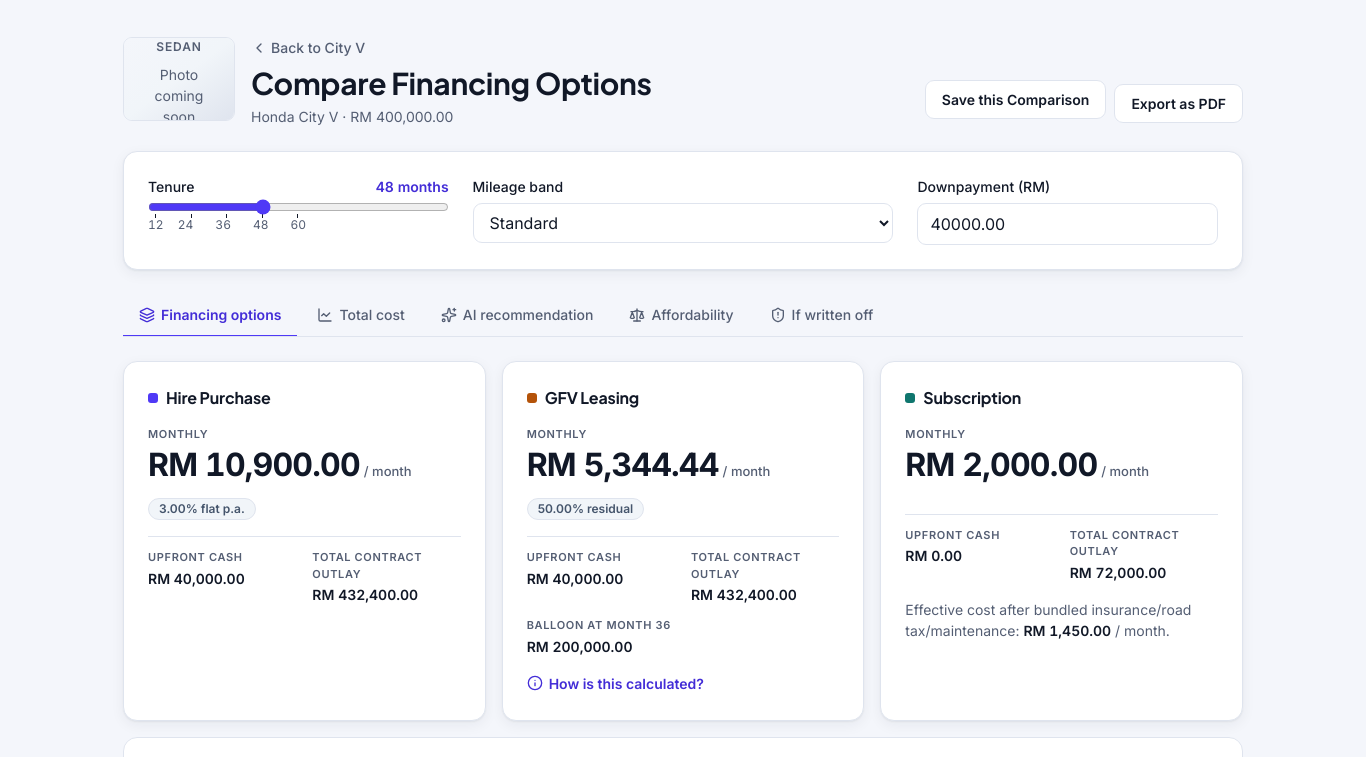
ComparisonPage › AI Recommendation tab › does not fetch a recommendation until all three ratings, income, and DSR are filled in
Click the tab "AI recommendation" at coordinates (517, 316), box x1=425 y1=294 x2=610 y2=337
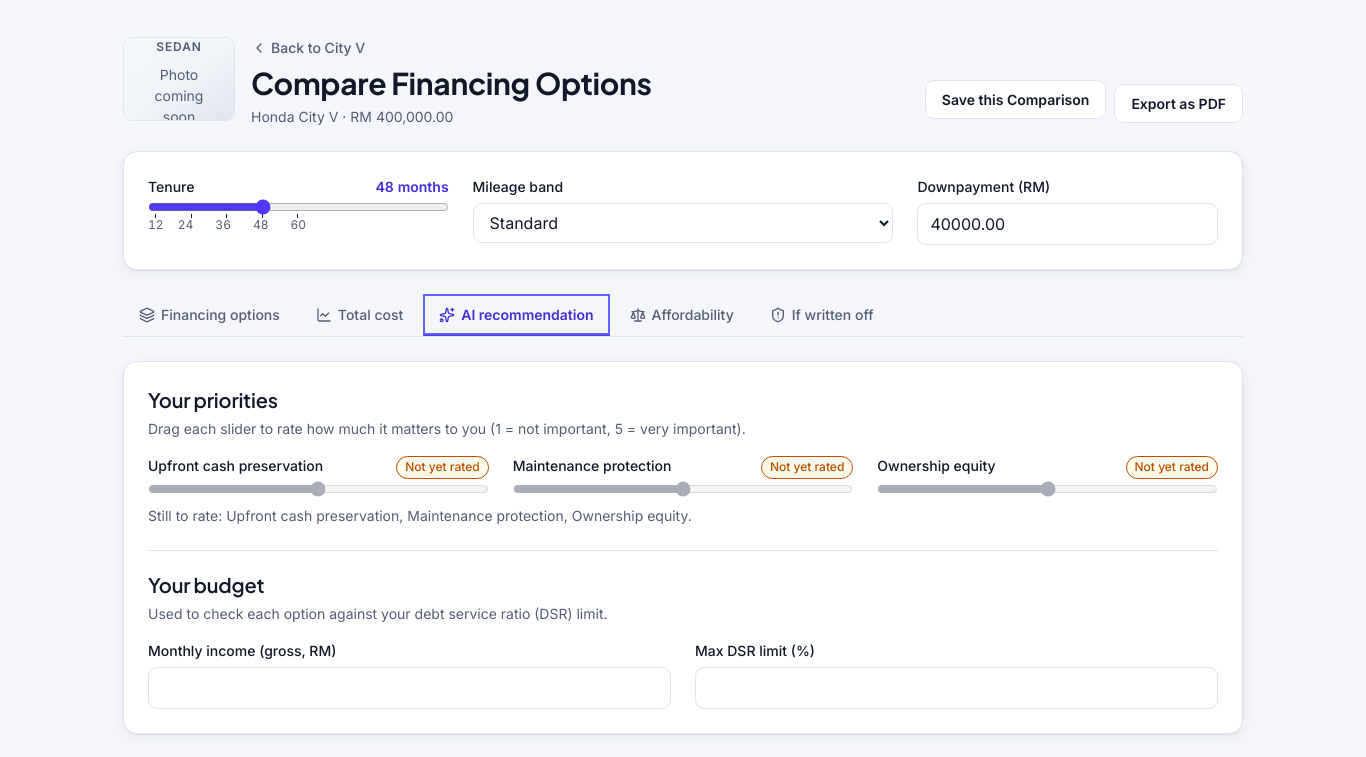
Set the slider labelled "Upfront cash preservation" to "5" at coordinates (481, 489), box x1=148 y1=485 x2=489 y2=493
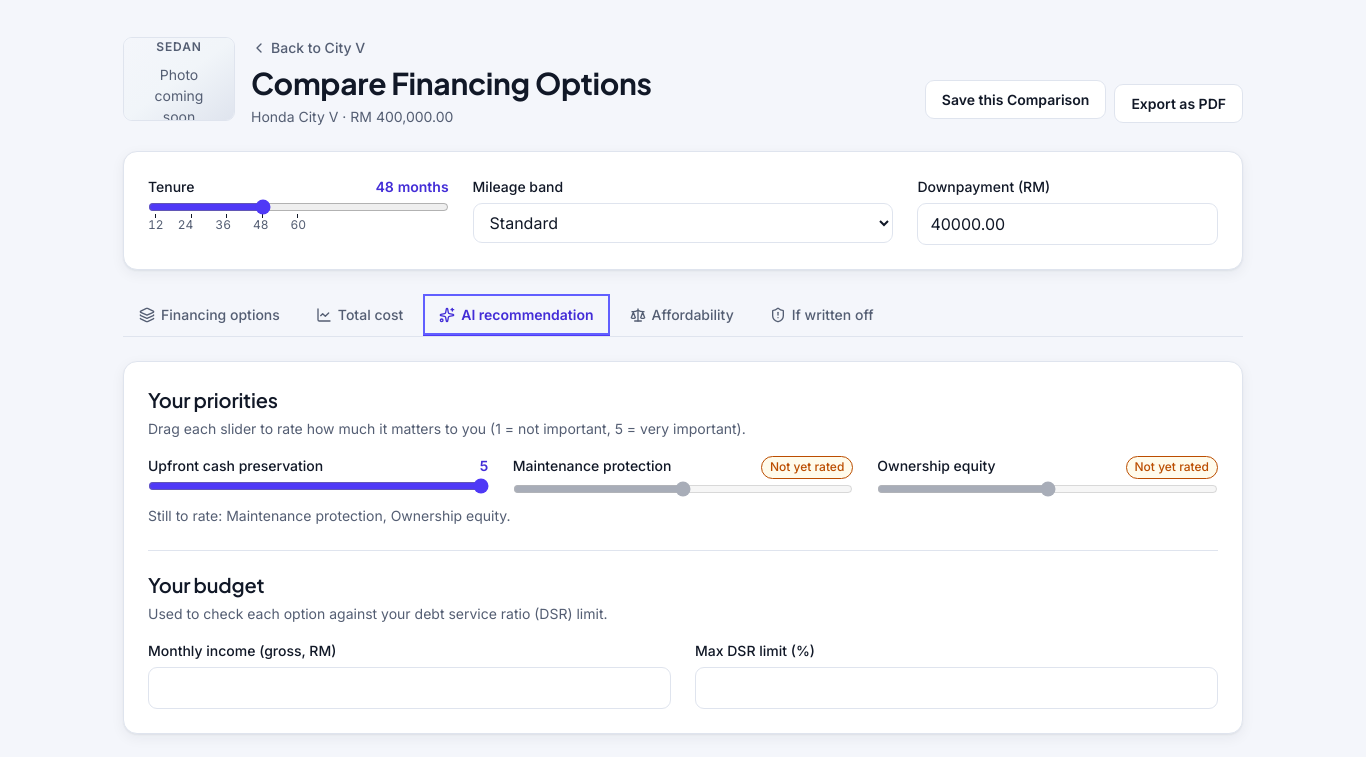
Set the slider labelled "Maintenance protection" to "4" at coordinates (764, 489), box x1=513 y1=485 x2=853 y2=493
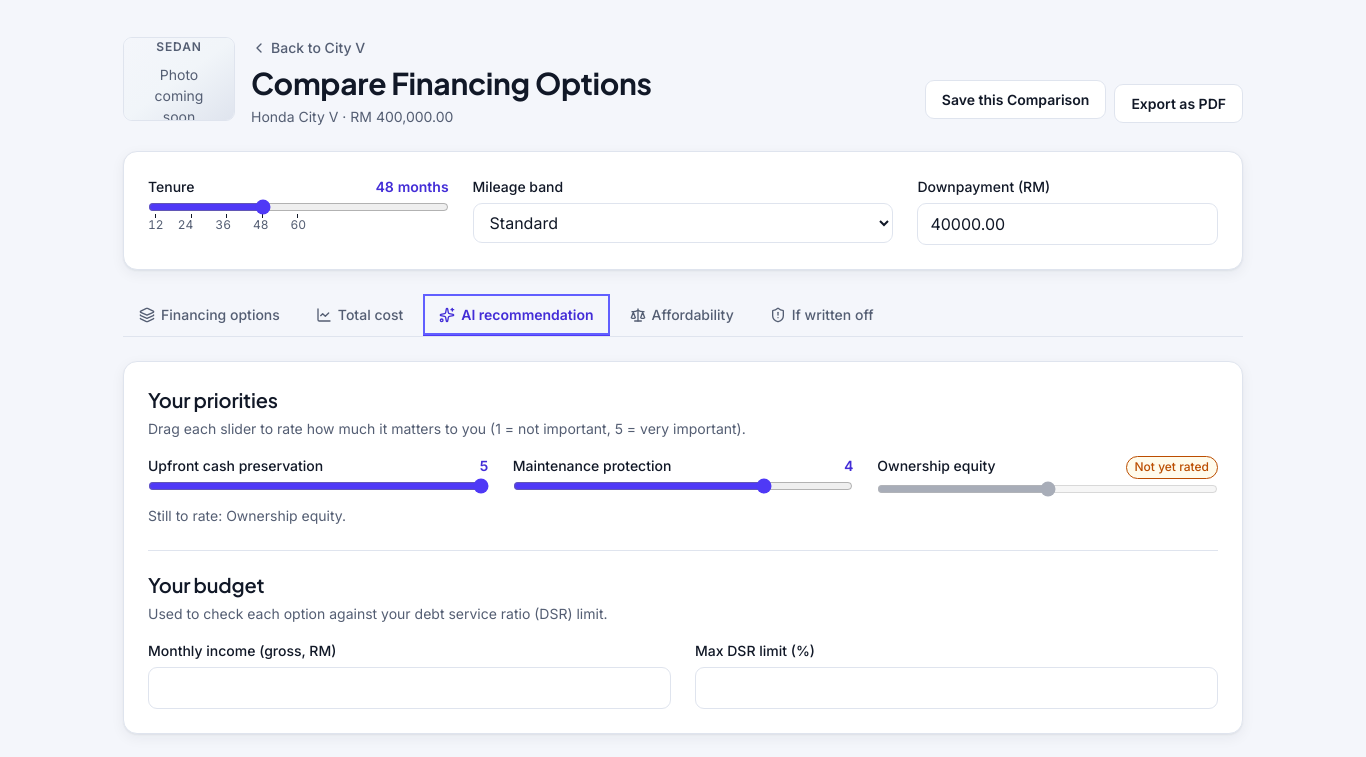
Set the slider labelled "Ownership equity" to "2" at coordinates (966, 489), box x1=877 y1=485 x2=1218 y2=493
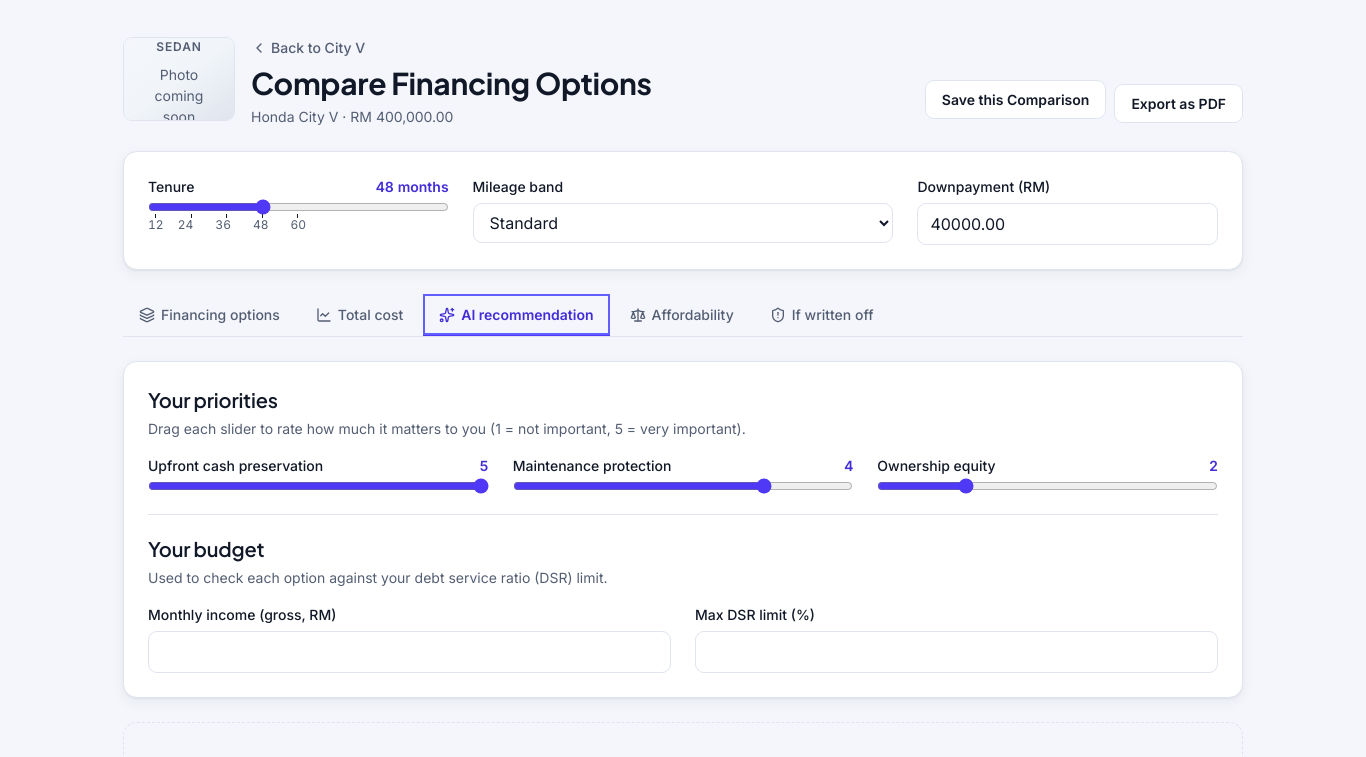
Type "8000" into the number field labelled "Monthly income (gross, RM)" at coordinates (410, 652), box x1=148 y1=631 x2=671 y2=673
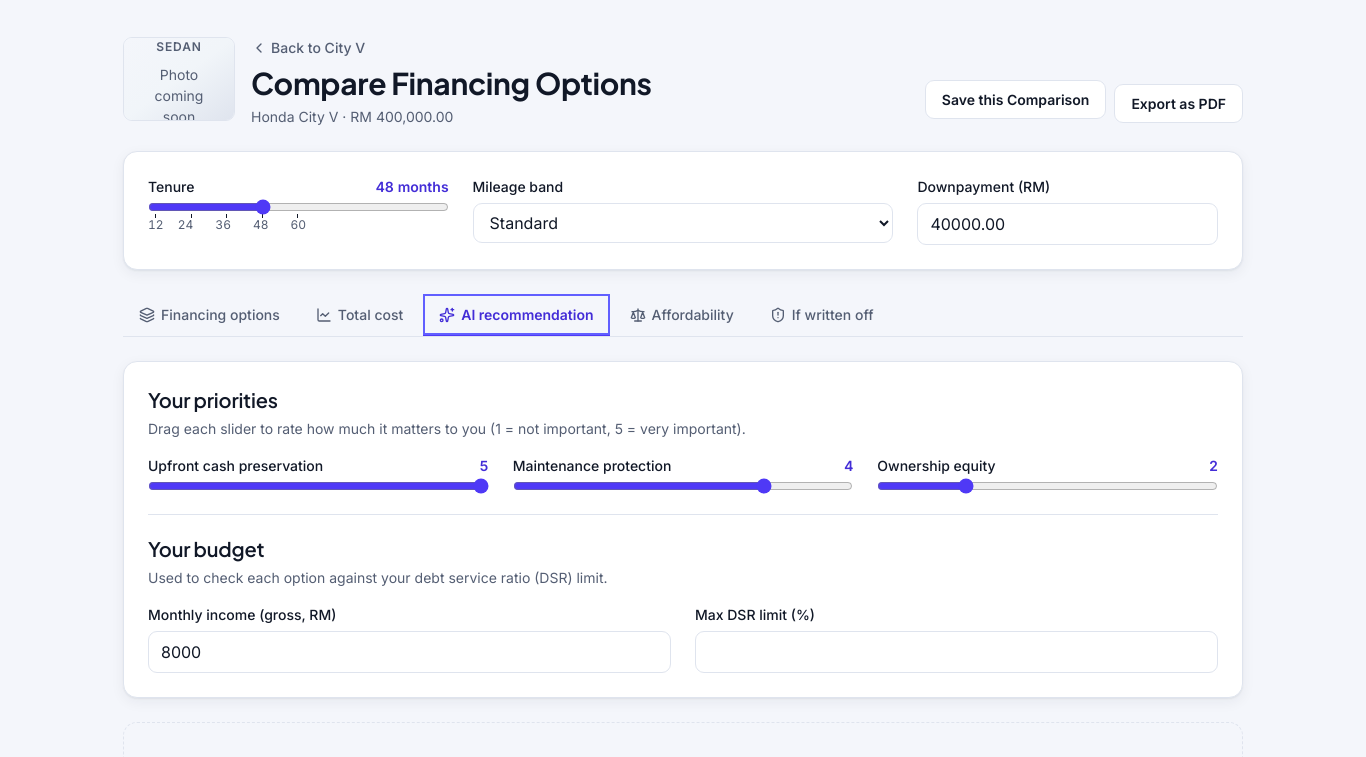
Type "60" into the number field labelled "Max DSR limit (%)" at coordinates (956, 652), box x1=695 y1=631 x2=1218 y2=673
(page scrolled)
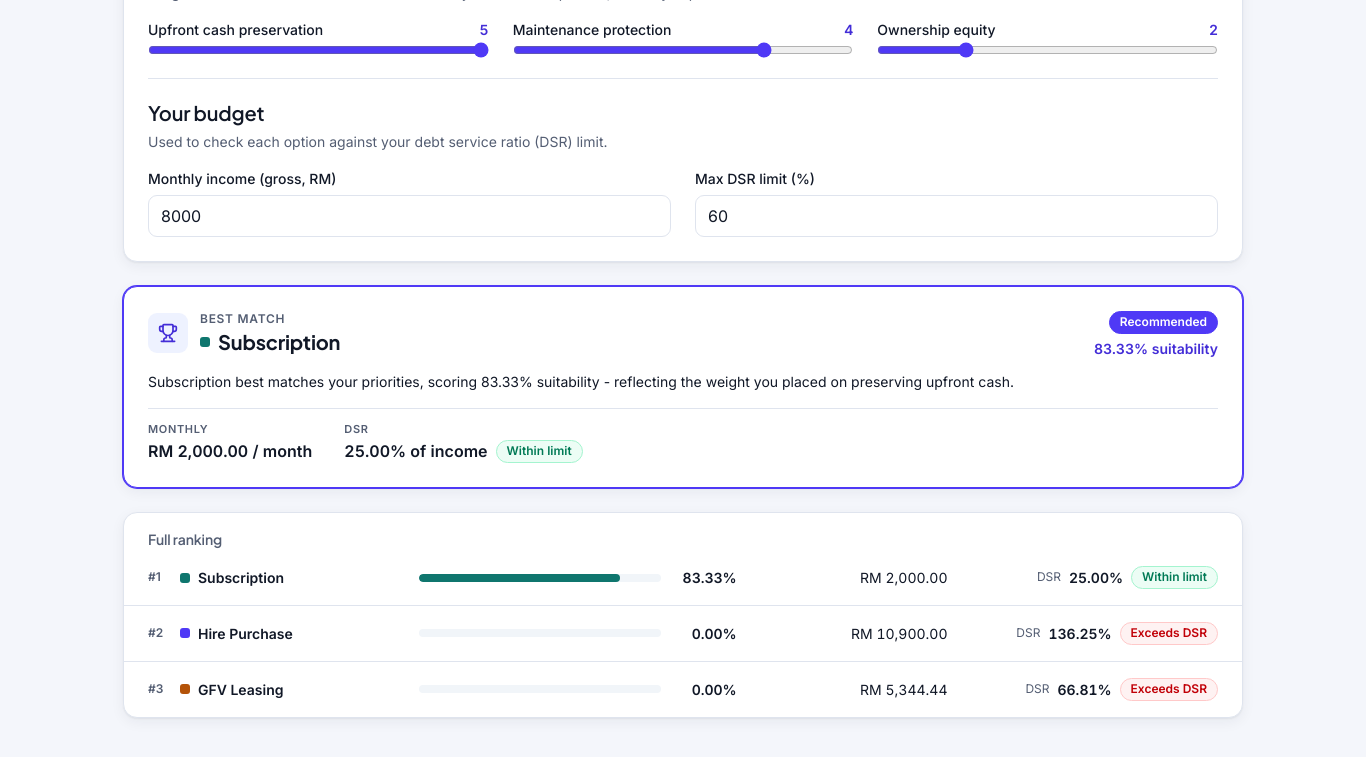
Now the text "Subscription best matches" is shown, box x1=148 y1=373 x2=1014 y2=390
